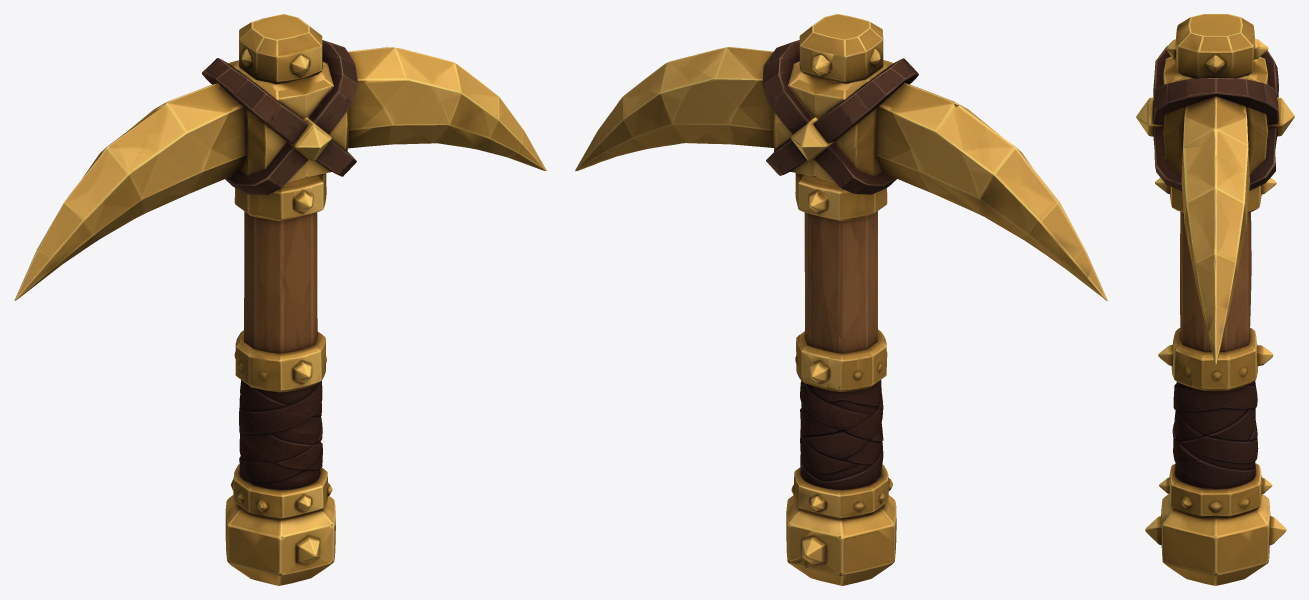
Rendered from Pickaxe_Gold.fbx.
3 renders of one model, left to right at view 1: azimuth 30°, elevation 25°; view 2: azimuth 150°, elevation 25°; view 3: azimuth 270°, elevation 25°, orthographic.
Visible parts, largest first — view 1: output_unwrapped; view 2: output_unwrapped; view 3: output_unwrapped.
Boxes of the visible parts, bbox=[...] form: output_unwrapped: bbox=[14, 14, 546, 585]; output_unwrapped: bbox=[575, 14, 1107, 585]; output_unwrapped: bbox=[1136, 14, 1294, 585].
Size of the model in its own units: 190 by 186 by 49.04.
1 material, 1 textured.
